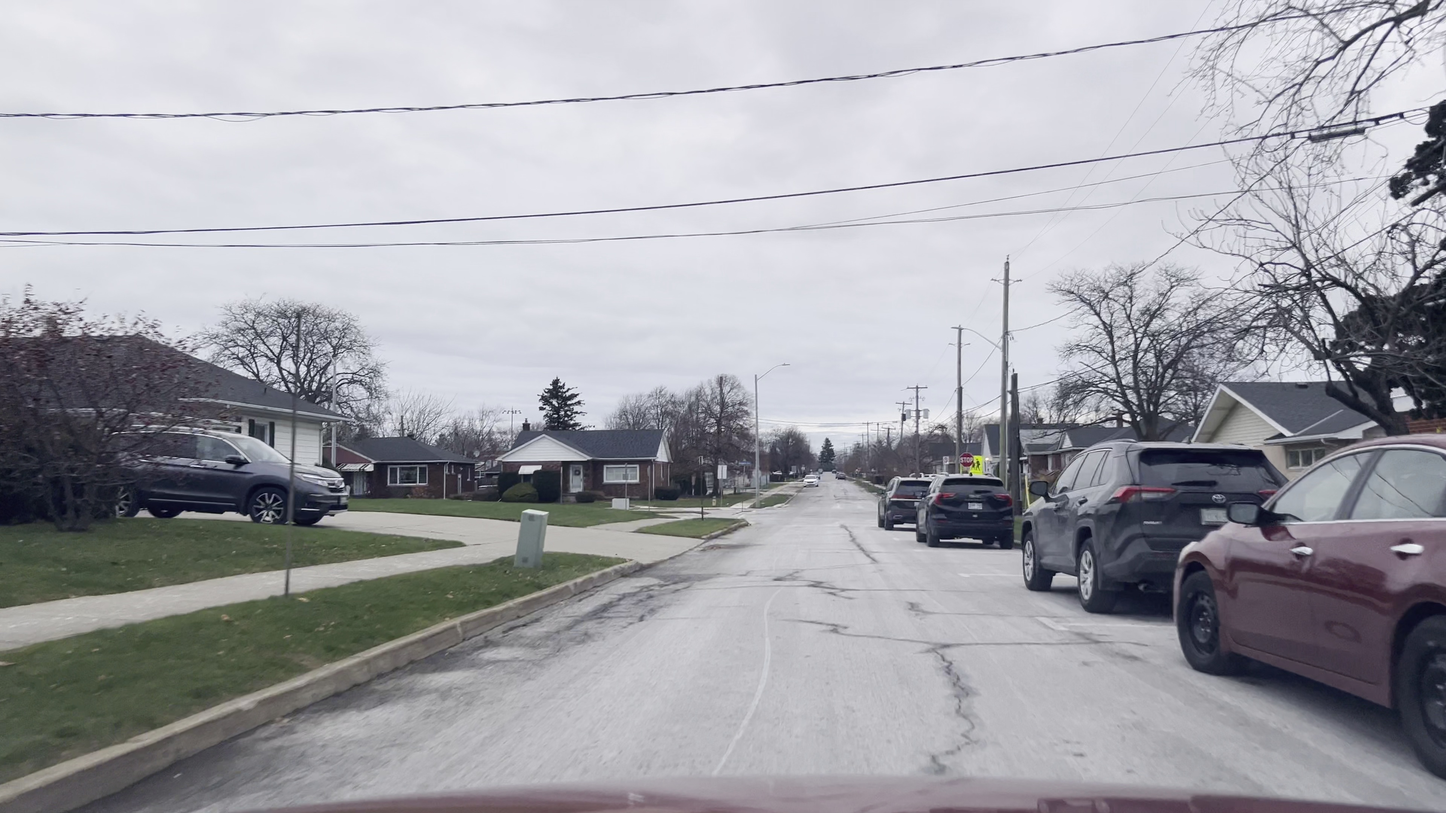cracks: (909, 629, 979, 746), (771, 560, 843, 602), (786, 609, 860, 647), (1060, 611, 1097, 656), (838, 519, 874, 564)
